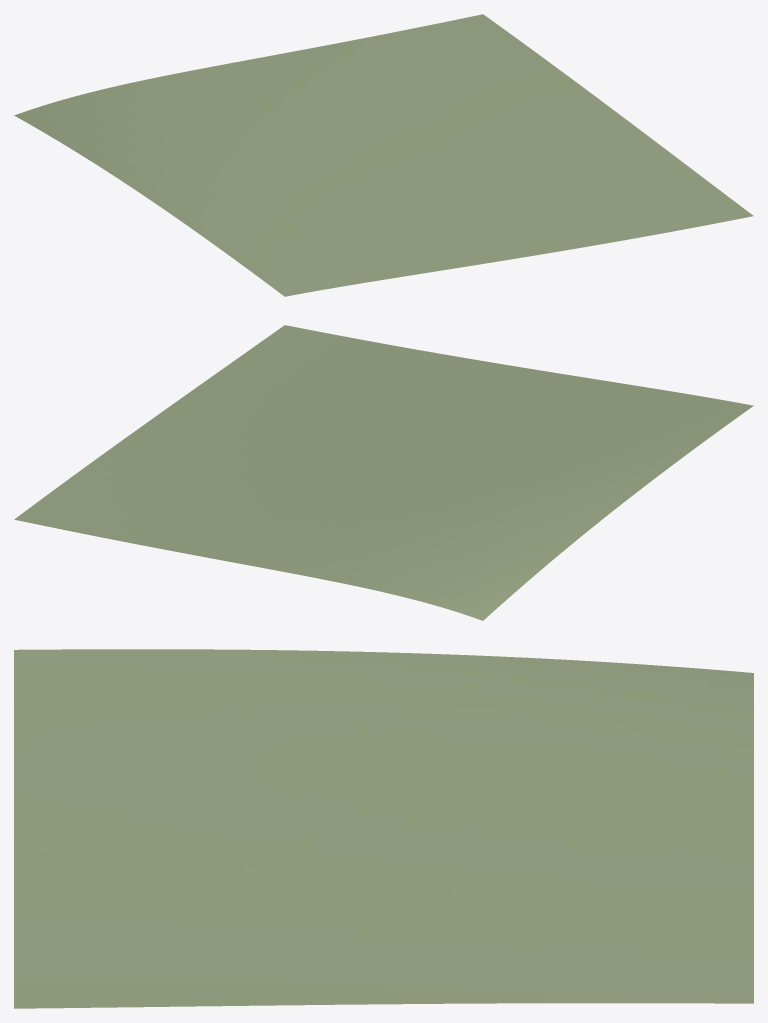
Rendered from expanse-16-7.glb.
The picture shows the model from 3 angles, top to bottom: view 1: azimuth 30°, elevation 25°; view 2: azimuth 150°, elevation 25°; view 3: azimuth 270°, elevation 25°; orthographic projection. The views are drawn at different scales.
Visible parts, largest first — view 1: expanse-16-7; view 2: expanse-16-7; view 3: expanse-16-7.
Boxes of the visible parts, x1=… form: expanse-16-7: x1=14, y1=14, x2=753, y2=296; expanse-16-7: x1=14, y1=325, x2=753, y2=620; expanse-16-7: x1=14, y1=649, x2=753, y2=1008.
Bounding box in the file's own units: 256 × 17.85 × 256.
